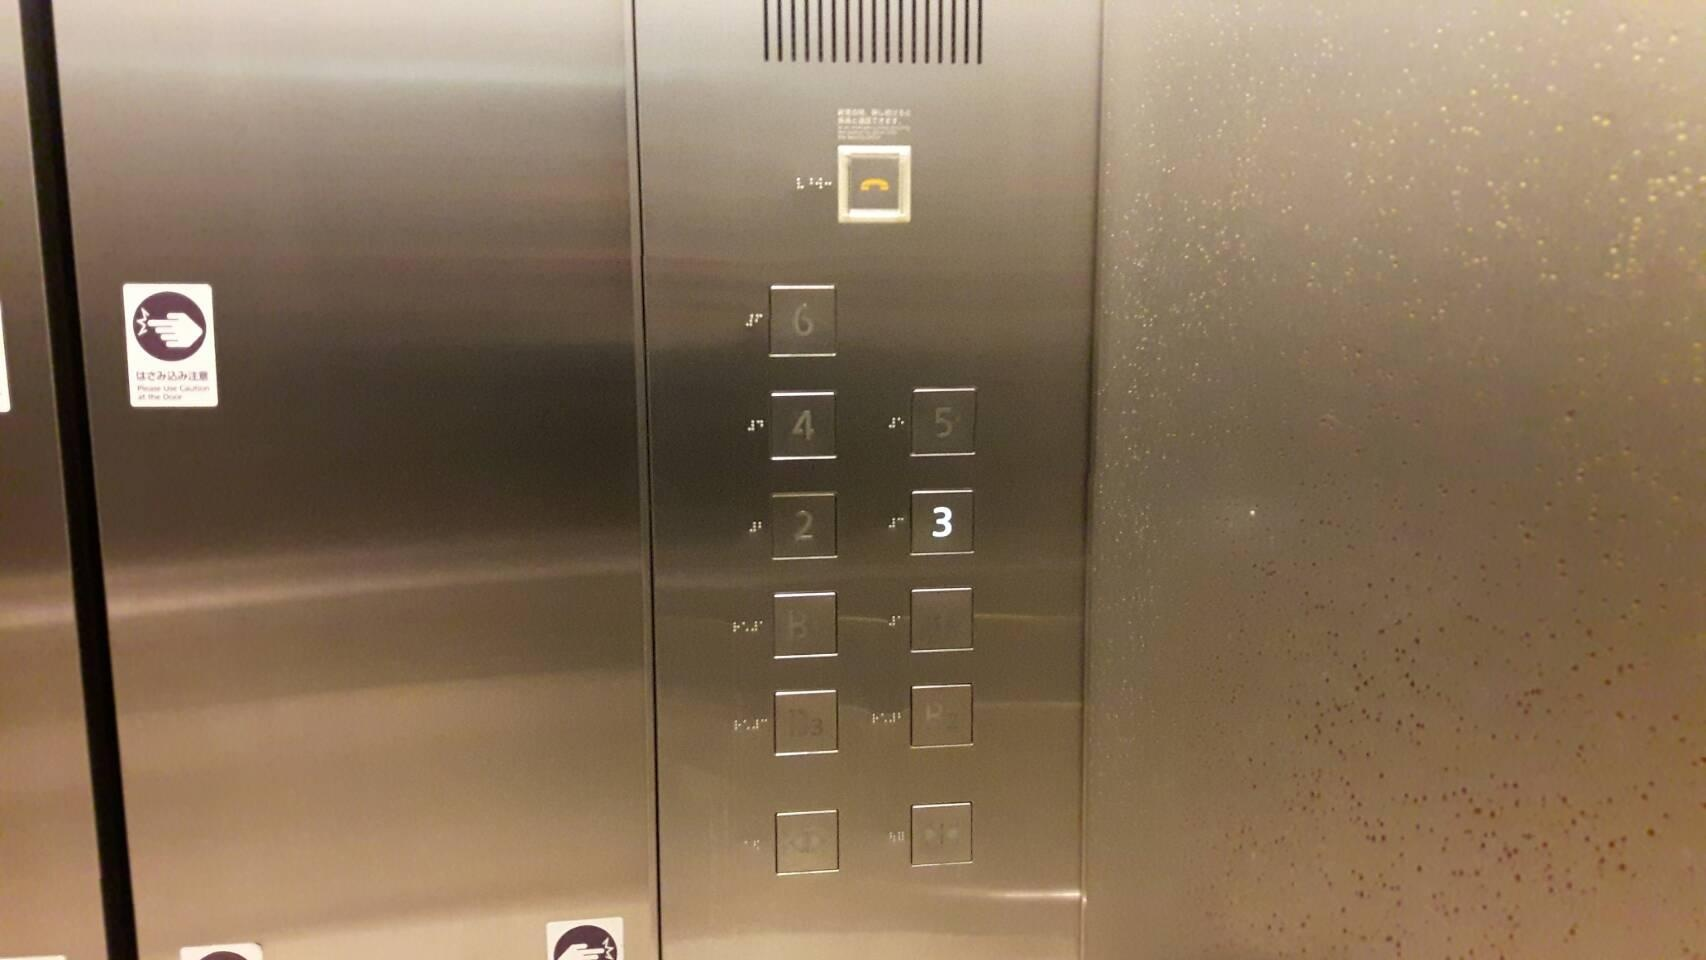2: (767, 488, 840, 565)
3: (906, 486, 978, 561)
4: (763, 388, 839, 465)
5: (907, 384, 980, 462)
6: (765, 280, 842, 365)
B: (769, 588, 842, 663)
B2: (907, 680, 976, 754)
B3: (771, 686, 840, 762)
call: (832, 141, 914, 229)
close: (907, 798, 976, 872)
empty: (905, 584, 976, 659)
open: (772, 806, 842, 879)
